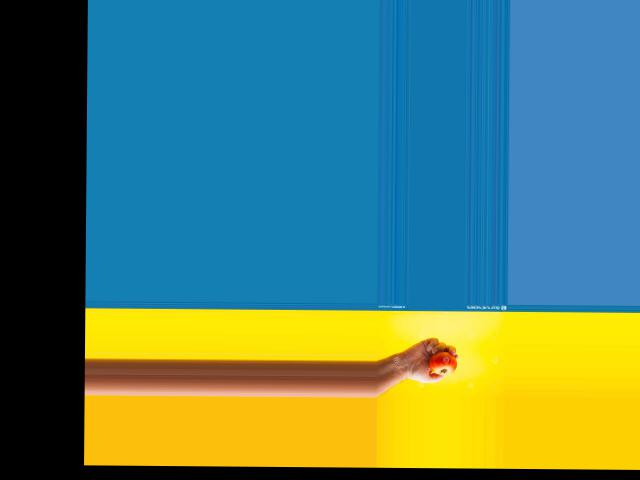tomato: (429, 351, 456, 374)
